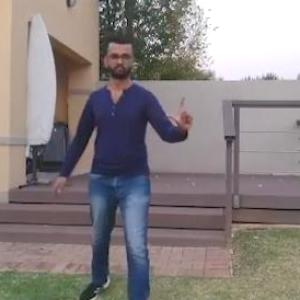land_hand: (162, 91, 200, 137)
